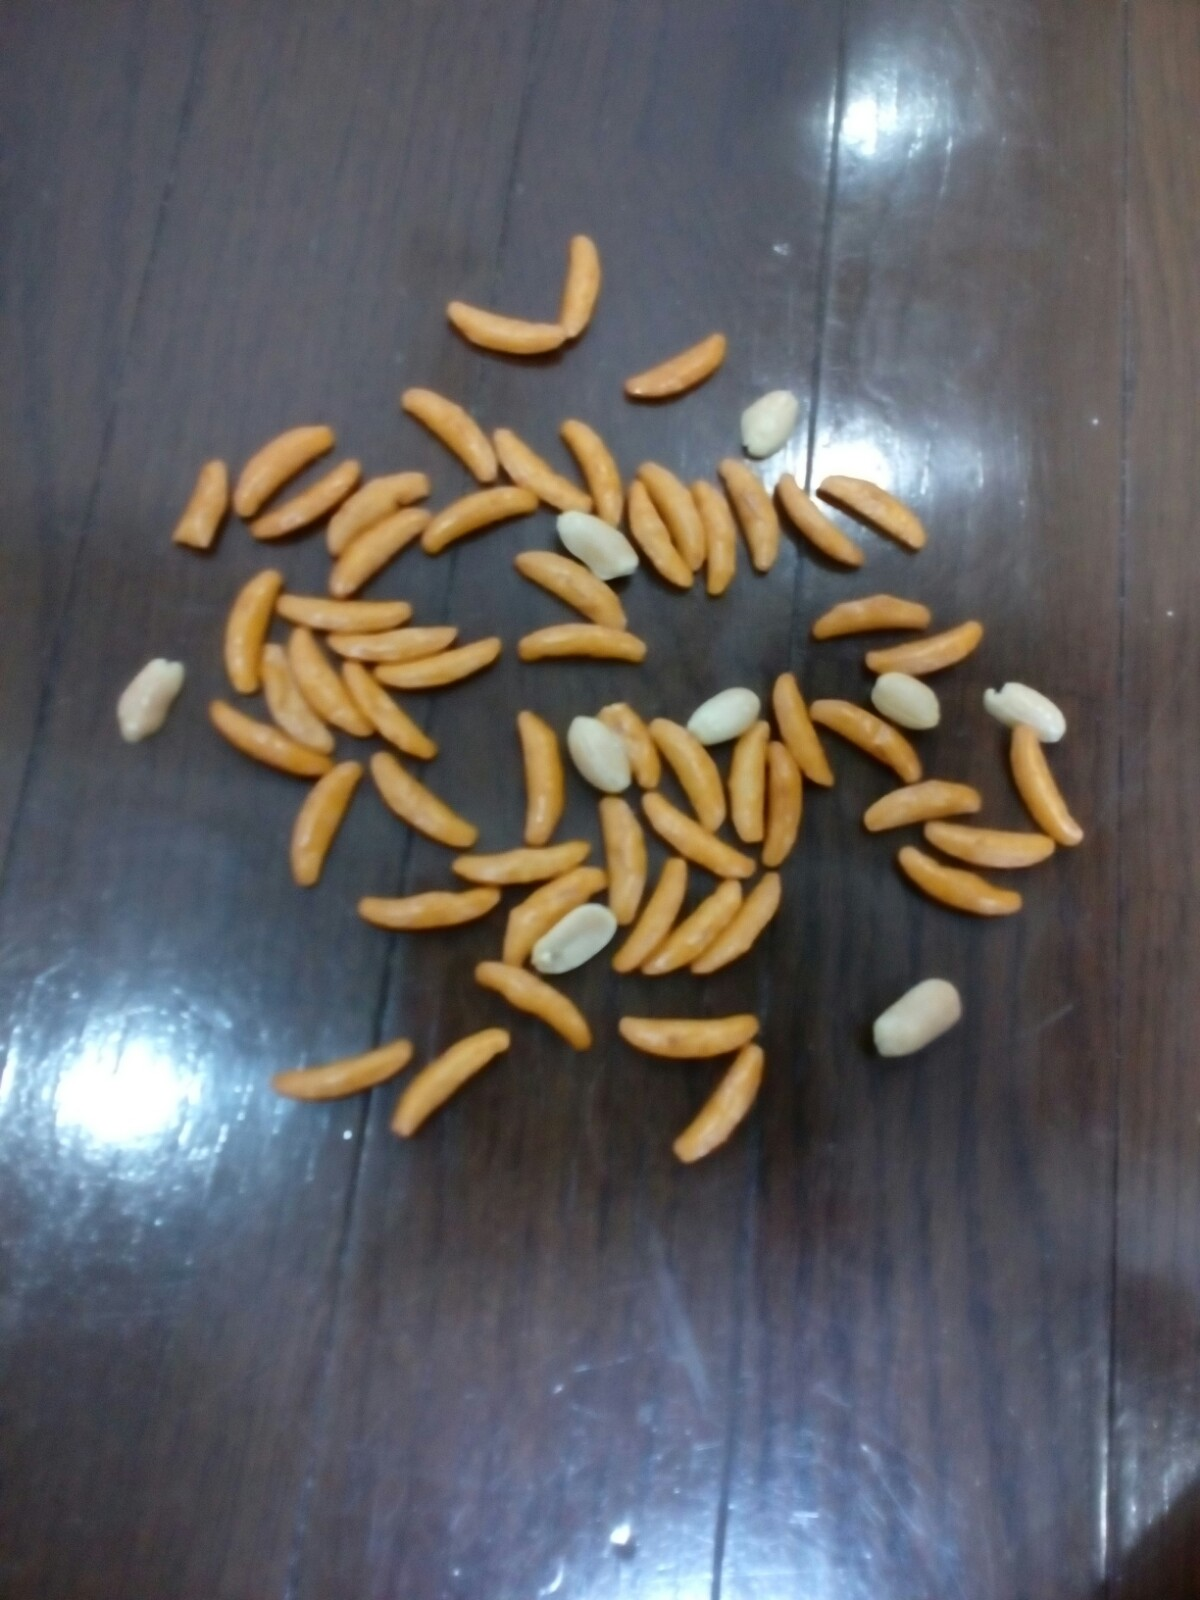peanut: (867, 973, 967, 1065), (531, 889, 616, 980), (552, 508, 654, 582), (729, 384, 818, 465), (976, 677, 1075, 748), (111, 656, 192, 745), (679, 682, 779, 750), (558, 706, 632, 797), (867, 670, 948, 742)
